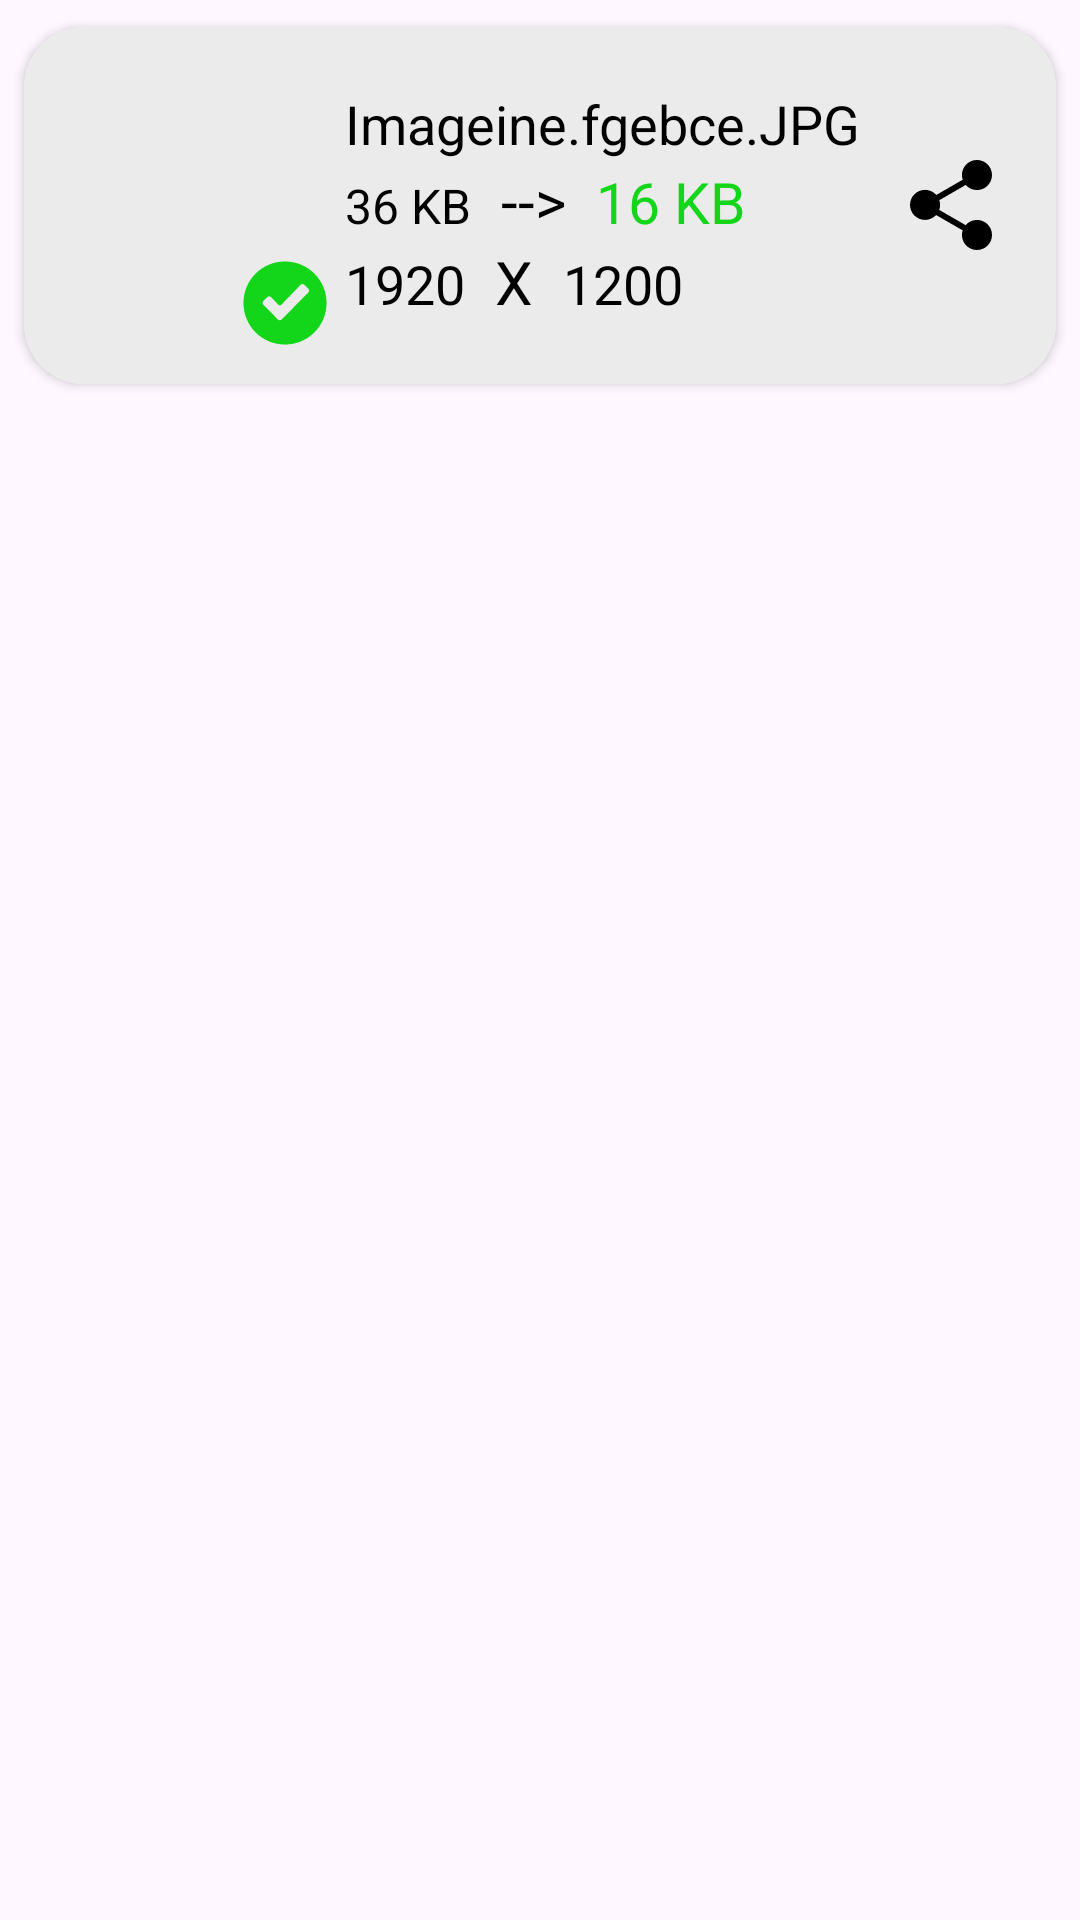

Screen size 1080x1920. Icon name, then its box in pixels as (x1, y1, x2, y2):
share: (910, 160, 992, 250)
success: (243, 261, 327, 345)
